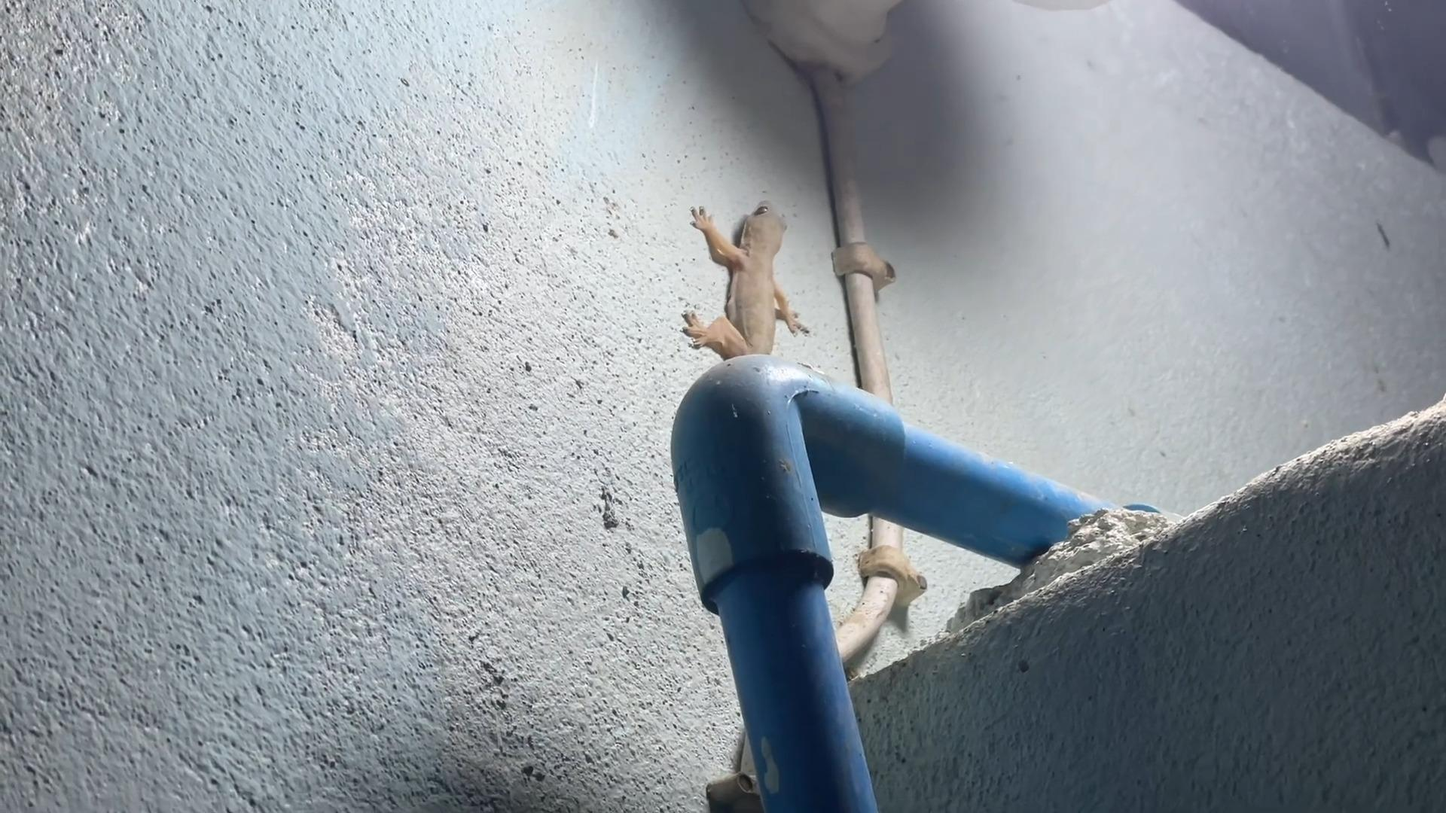lizard: (663, 185, 814, 349)
